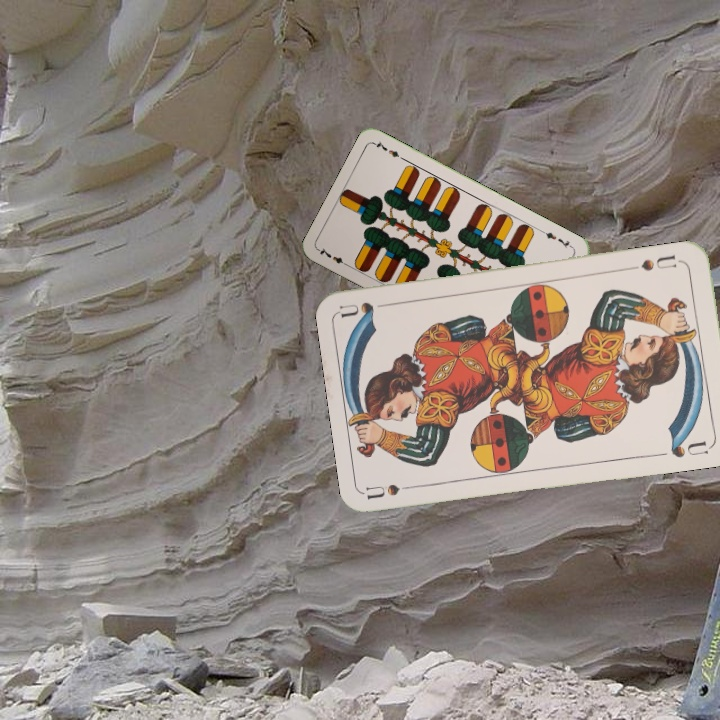E7: (315, 243, 352, 270), (538, 226, 576, 251)
SU: (626, 250, 685, 274), (364, 480, 423, 502)
